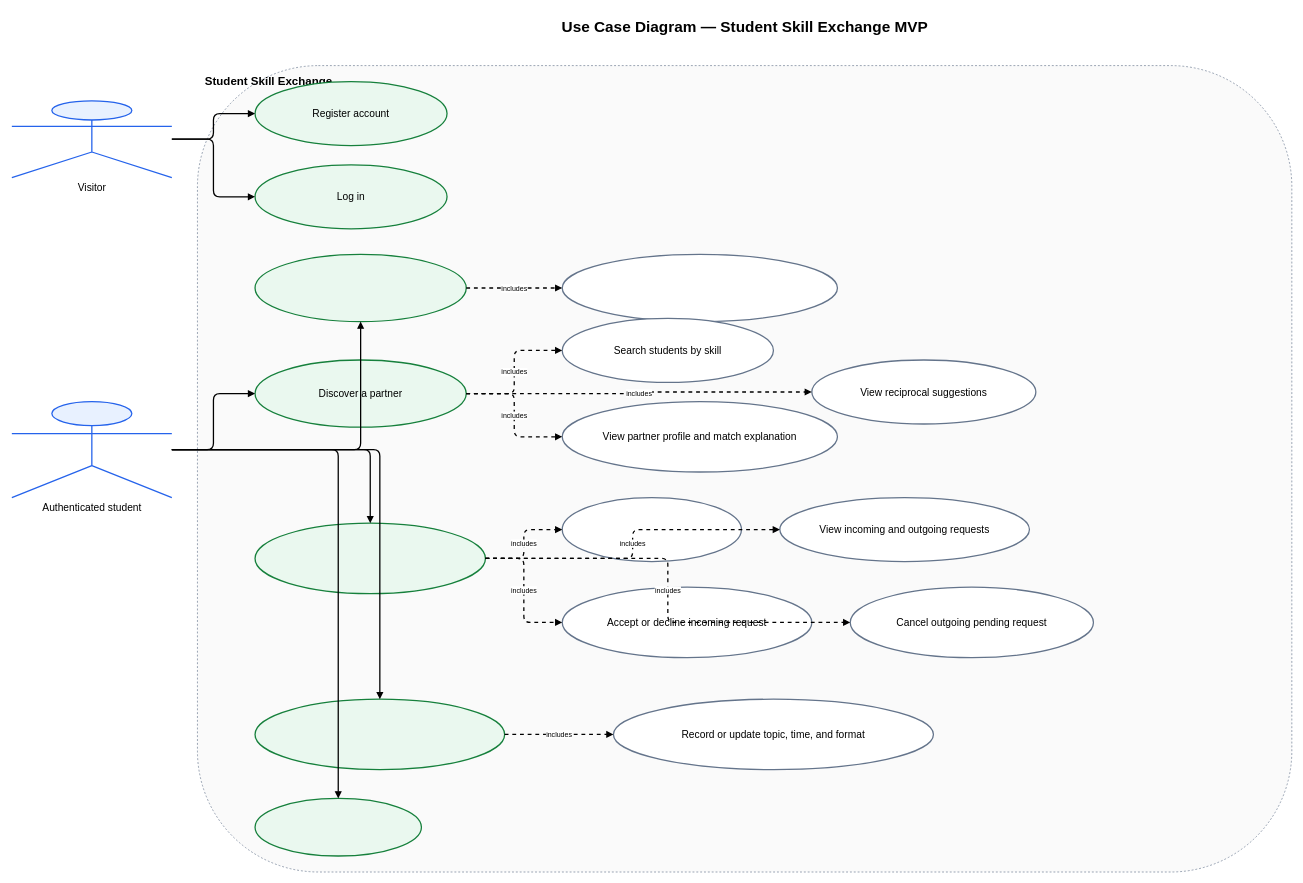
Image size: 1303x883. Some labels were removed from this diagram. Here are the shapes that lost their labels. From the top down, the centre of each, then its label:
point 360,287: Manage profile
point 699,287: Manage offered and wanted skills
point 651,529: Send request
point 370,558: Manage exchange requests
point 379,734: Manage agreed exchange details
point 338,826: Log out
